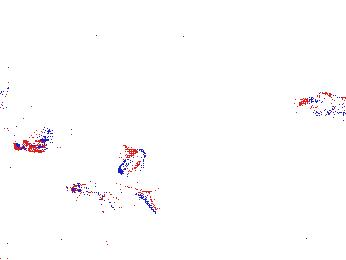red belly glassfish: (22, 122, 78, 153)
redtail glassfish: (69, 175, 165, 216), (296, 87, 346, 122), (116, 143, 146, 175)
